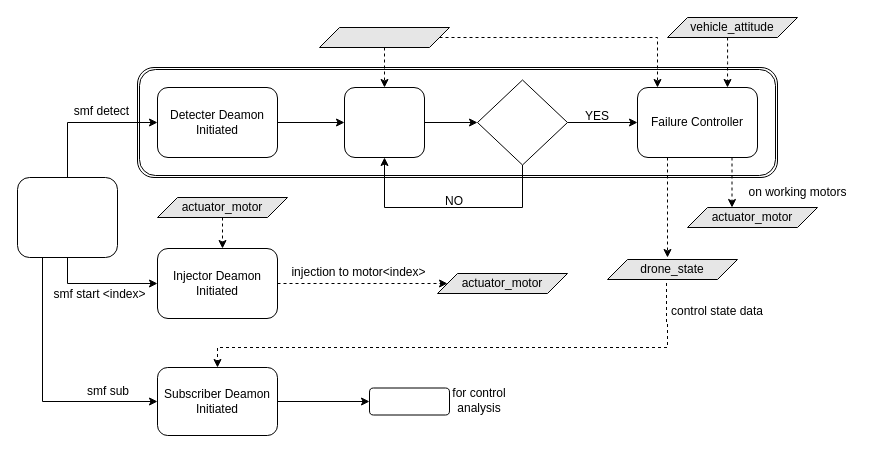
The diagram is 875 pixels wide and 453 high, and some of its shapes have lost their labels. The centre of each missing label's shape, as x and y in pixels:
"Data Monitoring" goes at point 384,122.
"Failure detected" goes at point 522,122.
"Failure main Initiated" goes at point 67,217.
"state data" goes at point 409,401.
"vehicle_odometry" goes at point 384,37.
